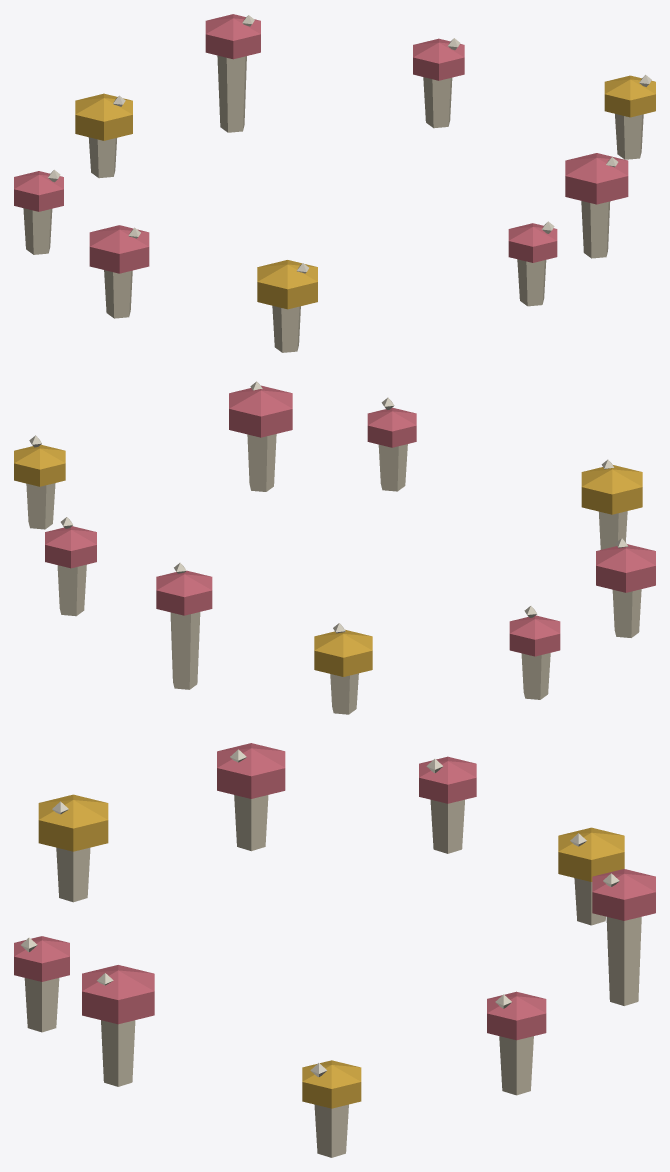
The model's file is mushroom_ring.glb.
The picture shows the model from 3 angles, top to bottom: view 1: azimuth 30°, elevation 25°; view 2: azimuth 150°, elevation 25°; view 3: azimuth 270°, elevation 25°; orthographic projection. The views are drawn at different scales.
Parts seen in each view (by area): view 1: mushroom_ring; view 2: mushroom_ring; view 3: mushroom_ring.
Boxes of the visible parts, <box> form: mushroom_ring: <box>14,14,655,352</box>; mushroom_ring: <box>14,381,655,714</box>; mushroom_ring: <box>14,743,655,1157</box>.
Bounding box in the file's own units: 1.86 × 0.3398 × 1.5.
